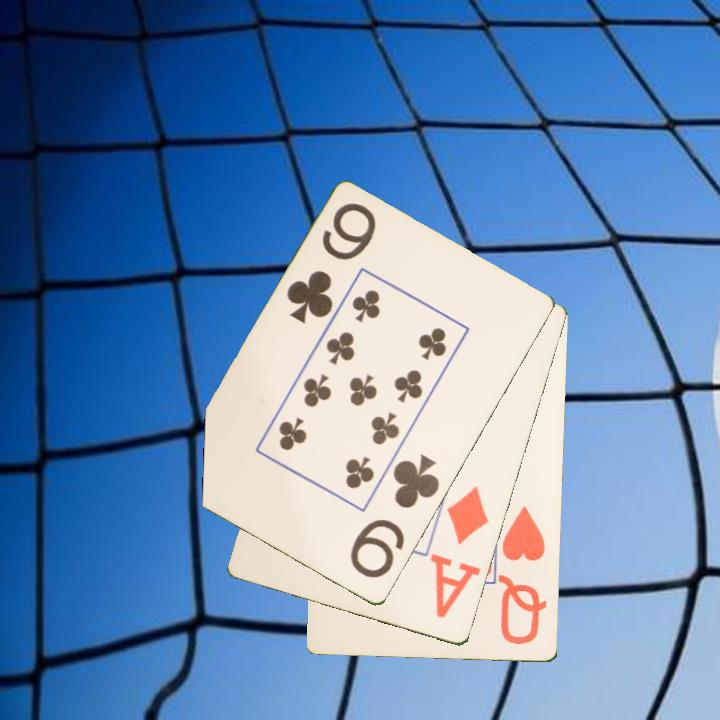9c: (346, 450, 443, 582), (283, 199, 380, 327)
Ad: (427, 482, 493, 622)
Qh: (497, 504, 551, 648)
